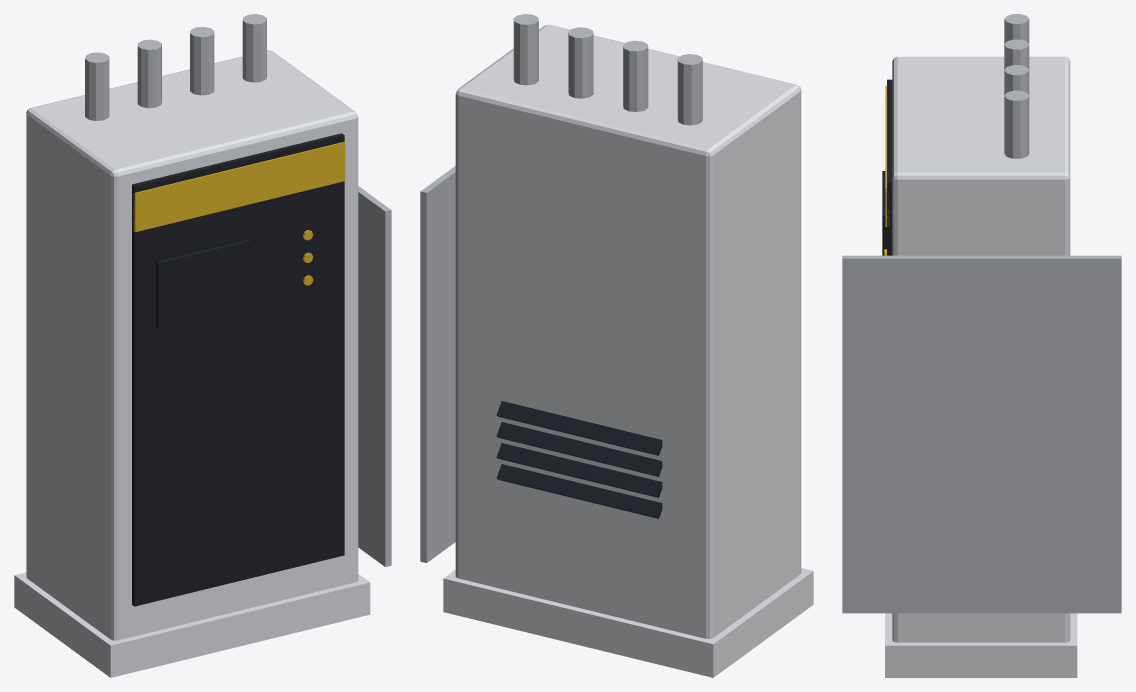
The model's file is inverter.glb.
3 views of the same model, side by side, from view 1: azimuth 30°, elevation 25°; view 2: azimuth 150°, elevation 25°; view 3: azimuth 270°, elevation 25° (orthographic). The views are drawn at different scales.
Visible parts, largest first — view 1: inverter_inv_body, inverter_chiller_dark, inverter_chiller_metal, inverter_inv_accent; view 2: inverter_inv_body, inverter_chiller_metal, inverter_chiller_dark; view 3: inverter_chiller_metal, inverter_inv_body, inverter_chiller_dark.
Part boxes in pixels (<box>): inverter_inv_body: <box>14,50,370,677</box>; inverter_chiller_dark: <box>132,133,344,606</box>; inverter_chiller_metal: <box>85,14,391,566</box>; inverter_inv_accent: <box>132,141,345,285</box>; inverter_inv_body: <box>443,24,813,677</box>; inverter_chiller_metal: <box>420,14,702,562</box>; inverter_chiller_dark: <box>496,401,662,518</box>; inverter_chiller_metal: <box>842,14,1121,613</box>; inverter_inv_body: <box>885,56,1077,677</box>; inverter_chiller_dark: <box>882,79,892,255</box>.
Bounding box in the file's own units: 0.84 × 1.73 × 0.784.
